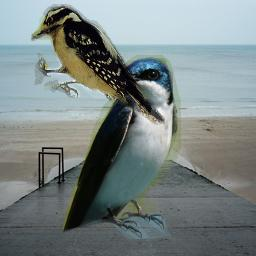Swallow: (63, 55, 181, 239)
Woodpecker: (31, 1, 165, 125)
